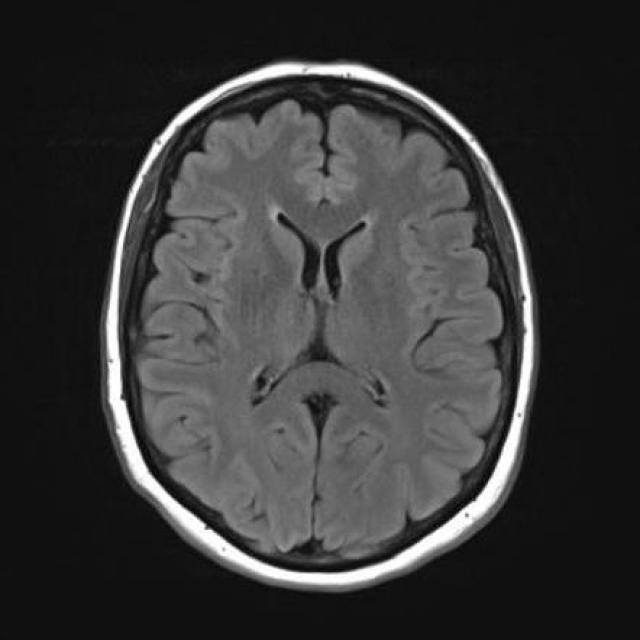notumor: (101, 64, 539, 595)
